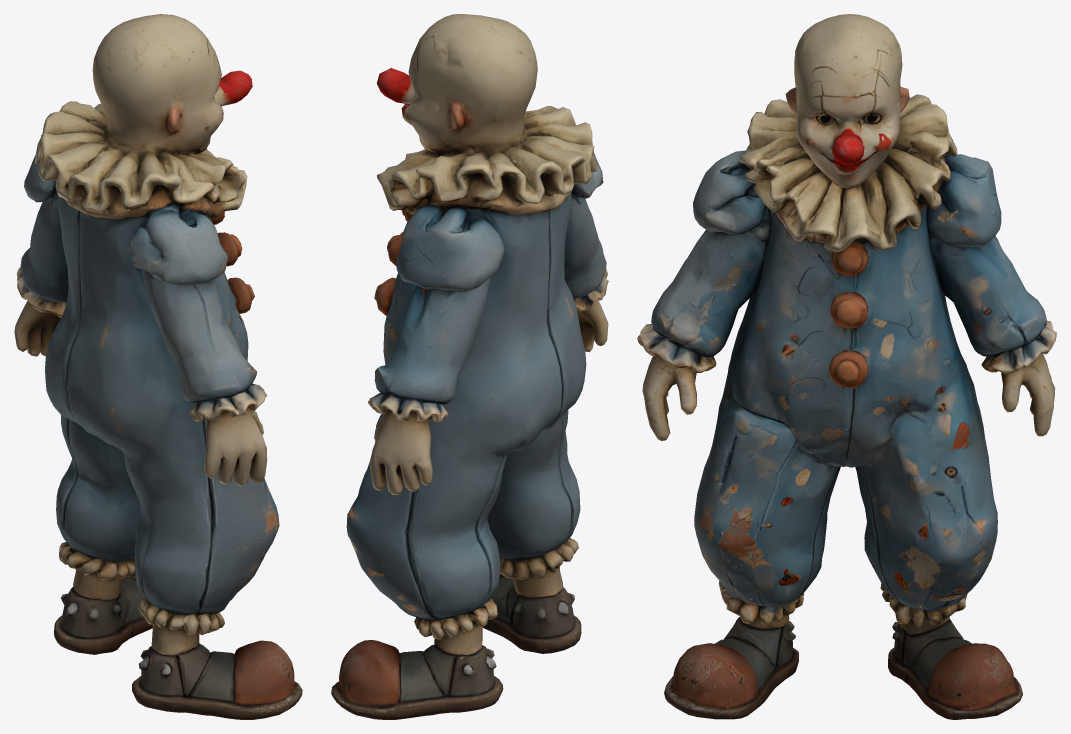
3 views of the same model, side by side, from view 1: azimuth 30°, elevation 25°; view 2: azimuth 150°, elevation 25°; view 3: azimuth 270°, elevation 25° (orthographic). The views are drawn at different scales.
Parts seen in each view (by area): view 1: tripo_node_4e078b30-b279-4639-9198-eb790c48b33a; view 2: tripo_node_4e078b30-b279-4639-9198-eb790c48b33a; view 3: tripo_node_4e078b30-b279-4639-9198-eb790c48b33a.
Part boxes in pixels (left/top/right/bottom): tripo_node_4e078b30-b279-4639-9198-eb790c48b33a: left=14, top=14, right=302, bottom=719; tripo_node_4e078b30-b279-4639-9198-eb790c48b33a: left=331, top=14, right=608, bottom=719; tripo_node_4e078b30-b279-4639-9198-eb790c48b33a: left=637, top=14, right=1056, bottom=719.
Size of the model in its own units: 0.3273 by 1 by 0.5703.
Materials: 1 (1 with a texture image).
